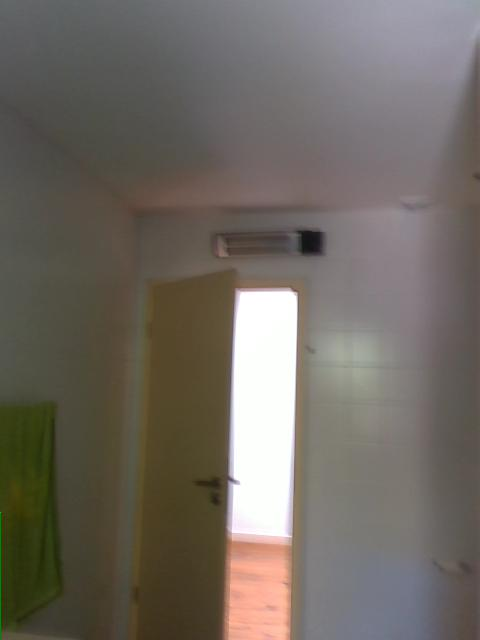semi_door: (128, 264, 306, 639)
